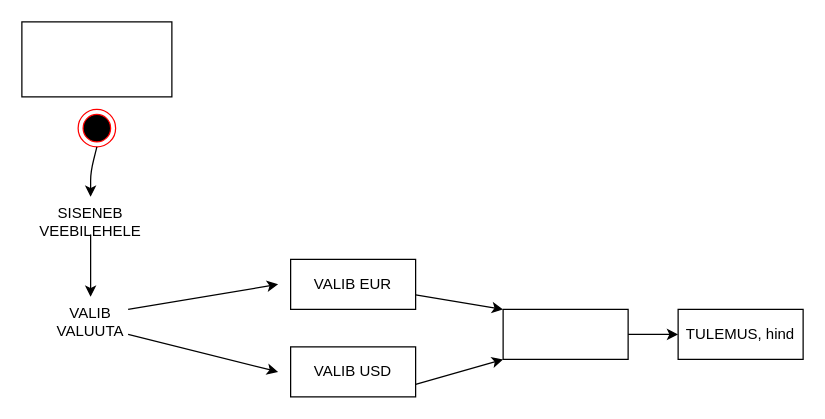
Image size: 825x419. Some labels were removed from this diagram. The centre of each missing label's shape, as x and y in pixels:
"KASUTAJA" goes at [96,59].
"valitakse, mitu bitcoini soovitakse" goes at [565,333].
